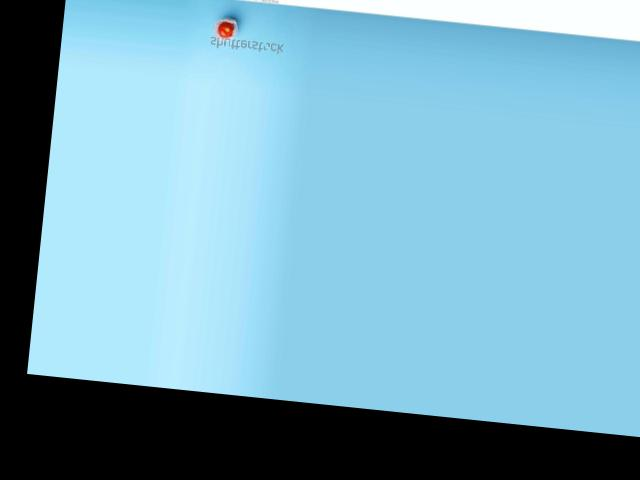tomato: (218, 21, 235, 38)
